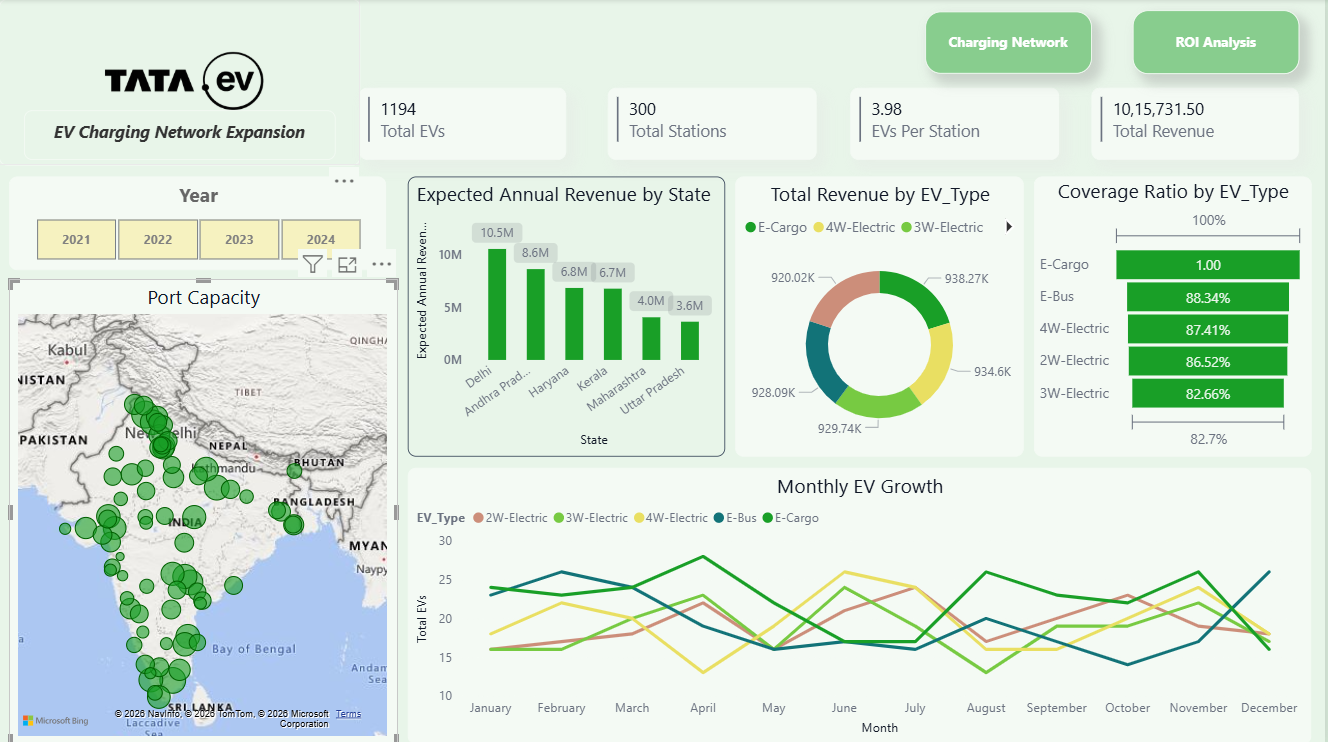

What the dashboard file says about the page in this screenshot:
{"tool":"powerbi","page":{"name":"EV Demand","canvas":[1280,720],"ordinal":0},"visuals":[{"type":"multiRowCard","fields":{"Values":["_measure.Total EVs"]},"box":[347.5,85.7,200.3,70],"z":0},{"type":"multiRowCard","fields":{"Values":["_measure.Total Stations"]},"box":[587.5,85.7,201.5,70],"z":1000},{"type":"multiRowCard","fields":{"Values":["_measure.EVs Per Station"]},"box":[821.6,85.7,201.5,70],"z":2000},{"type":"multiRowCard","fields":{"Values":["_measure.Total Revenue"]},"box":[1054.4,85.7,200.3,70],"z":3000},{"type":"lineChart","title":"Monthly EV Growth","fields":{"Y":["_measure.Total EVs"],"Series":["EV_Vehicle_Registrations_C.EV_Type"],"Category":["EV_Vehicle_Registrations_C.Registration_Date.Variation.Date Hierarchy.Month"]},"box":[394.9,452.5,871.9,267.3],"z":4000},{"type":"funnel","fields":{"Category":["EV_Vehicle_Registrations_C.EV_Type"],"Y":["_measure.Coverage Ratio"]},"box":[998.9,171.3,267.8,270.2],"z":5000},{"type":"clusteredColumnChart","fields":{"Y":["_measure.Expected Annual Revenue"],"Category":["Expansion_Candidates_C.State"]},"box":[394.5,171.3,306.4,270.2],"z":6000},{"type":"donutChart","fields":{"Category":["EV_Vehicle_Registrations_C.EV_Type"],"Y":["_measure.Total Revenue"]},"box":[710.6,171.3,278.7,270.2],"z":7000},{"type":"map","title":"Port Capacity","fields":{"Category":["Charging_Stations_C.City"],"Size":["Sum(Charging_Stations_C.Number_of_Ports)"]},"box":[10,270,374.3,450],"z":8000},{"type":"slicer","title":"Year","fields":{"Values":["EV_Vehicle_Registrations_C.Registration_Date.Variation.Date Hierarchy.Year"]},"box":[9.7,171.3,364.3,90.5],"z":9000},{"type":"image","box":[0,0,348.7,160.5],"z":10000},{"type":"actionButton","title":"dgdfsg","box":[894,12.1,160.5,60.3],"z":11000},{"type":"actionButton","box":[1094.2,10.9,160.5,61.5],"z":12000},{"type":"textbox","box":[24.1,107.4,300.4,48.3],"z":13000}]}

Visuals, with their boxes in screenshot pixels (x1, y1, x2, y2), scaled from the page's 1280x720 canvas onto the 1328x742 screenshot:
multiRowCard - _measure.Total EVs: region(361, 88, 568, 160)
multiRowCard - _measure.Total Stations: region(610, 88, 819, 160)
multiRowCard - _measure.EVs Per Station: region(852, 88, 1061, 160)
multiRowCard - _measure.Total Revenue: region(1094, 88, 1302, 160)
"Monthly EV Growth" lineChart: region(410, 466, 1314, 741)
funnel - EV_Vehicle_Registrations_C.EV_Type x _measure.Coverage Ratio: region(1036, 177, 1314, 455)
clusteredColumnChart - _measure.Expected Annual Revenue x Expansion_Candidates_C.State: region(409, 177, 727, 455)
donutChart - EV_Vehicle_Registrations_C.EV_Type x _measure.Total Revenue: region(737, 177, 1026, 455)
"Port Capacity" map: region(10, 278, 399, 741)
"Year" slicer: region(10, 177, 388, 270)
image: region(0, 0, 362, 165)
"dgdfsg" actionButton: region(928, 12, 1094, 75)
actionButton: region(1135, 11, 1302, 75)
textbox: region(25, 111, 337, 160)
